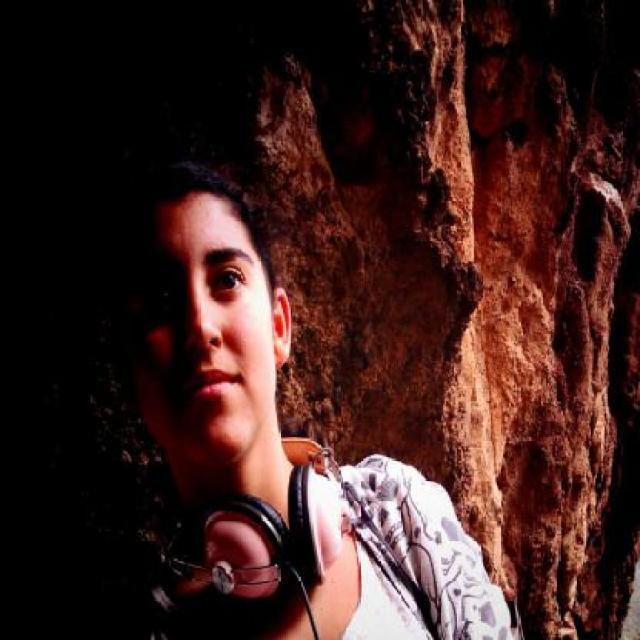earphone: (185, 443, 365, 620)
